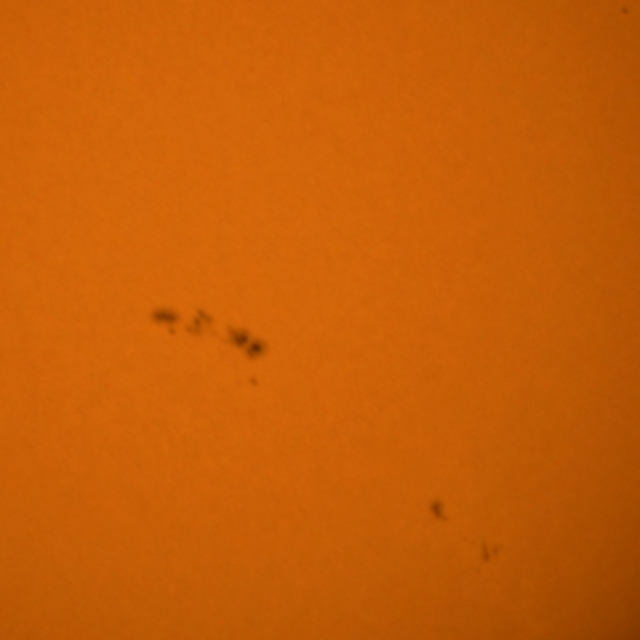sunspot: (149, 302, 228, 342), (220, 324, 268, 365), (458, 533, 501, 567), (426, 496, 453, 525), (478, 540, 502, 568), (245, 374, 262, 391), (619, 3, 631, 18)
